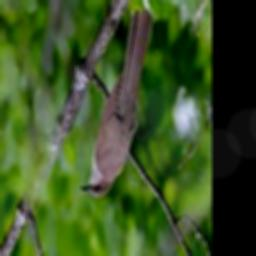Cuckoo: (81, 9, 153, 197)
